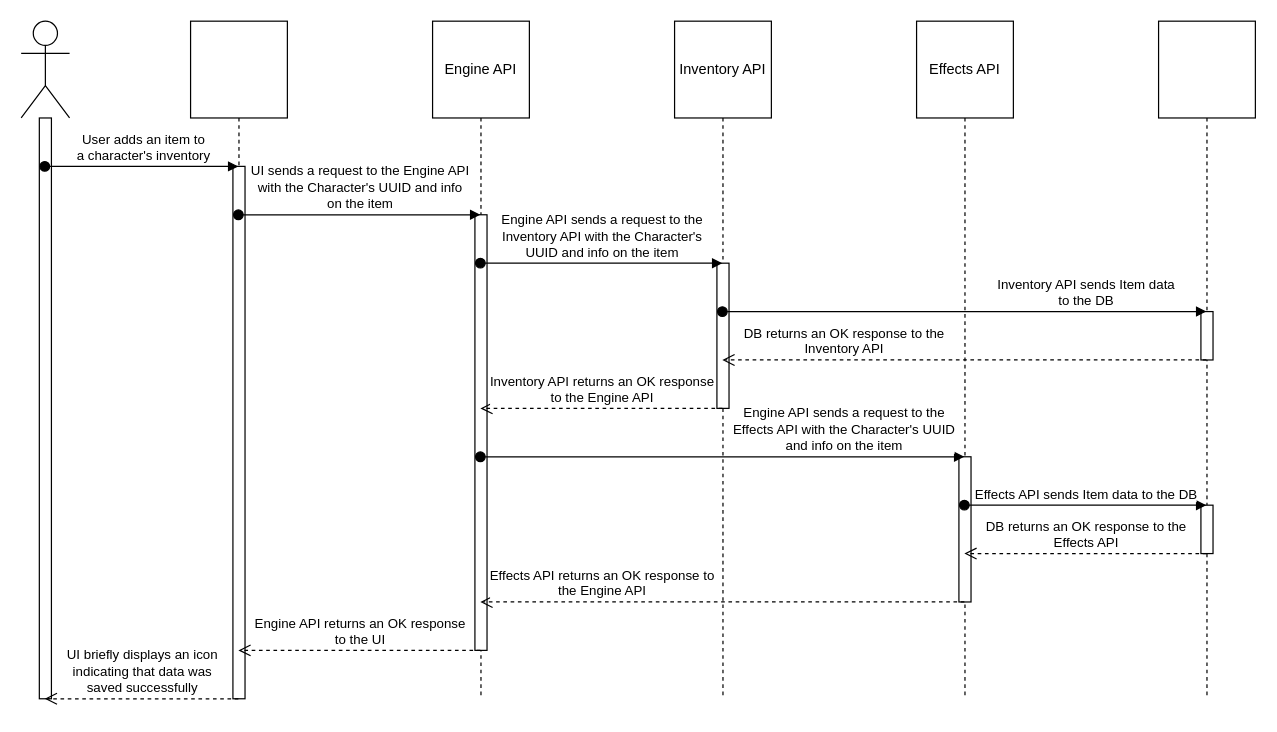
Some shapes in this 1277 by 732 pixel diagram are drawn without their labels. The shapes that lost their labels are listed below. From the top down, each one's box as (x1, y1, x2, y2) in pixels, then its label:
(189, 20, 287, 699): UI
(1157, 20, 1255, 699): Database
